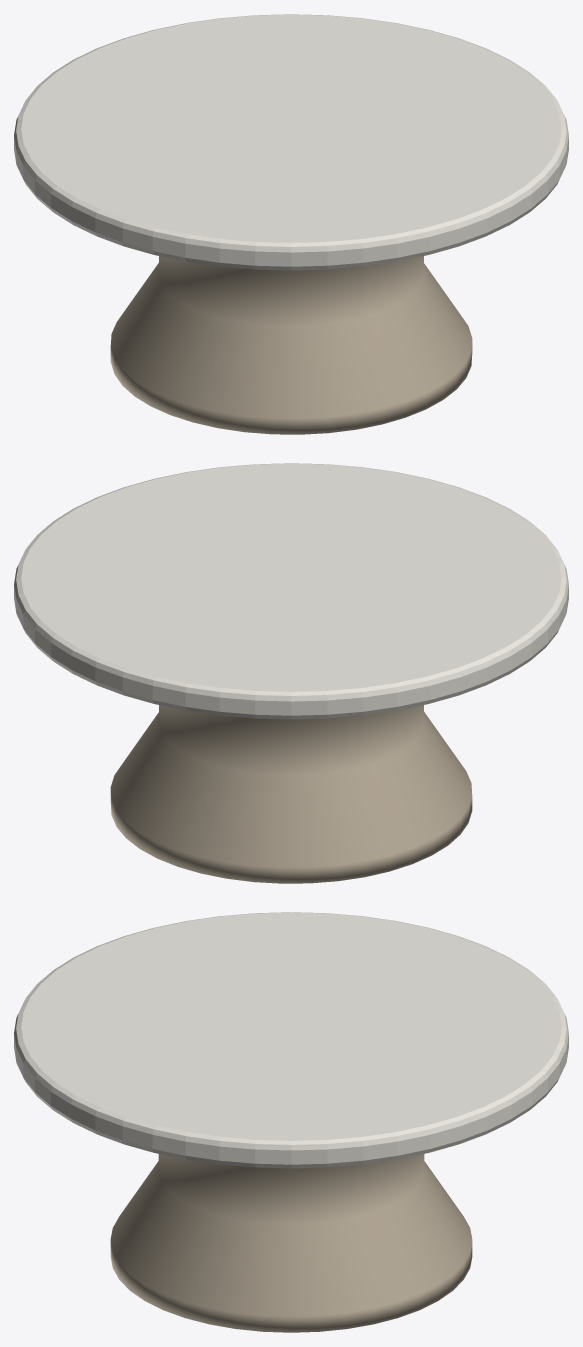
The model's file is low-table.glb.
3 renders of one model, top to bottom at view 1: azimuth 30°, elevation 25°; view 2: azimuth 150°, elevation 25°; view 3: azimuth 270°, elevation 25°, orthographic.
Parts seen in each view (by area): view 1: table_top, table_drum; view 2: table_top, table_drum; view 3: table_top, table_drum.
Part boxes in pixels (bbox=[...]): table_top: bbox=[14, 14, 568, 270]; table_drum: bbox=[110, 256, 472, 434]; table_top: bbox=[14, 463, 568, 719]; table_drum: bbox=[110, 705, 472, 883]; table_top: bbox=[14, 912, 568, 1168]; table_drum: bbox=[110, 1154, 472, 1332].
Bounding box in the file's own units: 0.92 × 0.42 × 0.92.
